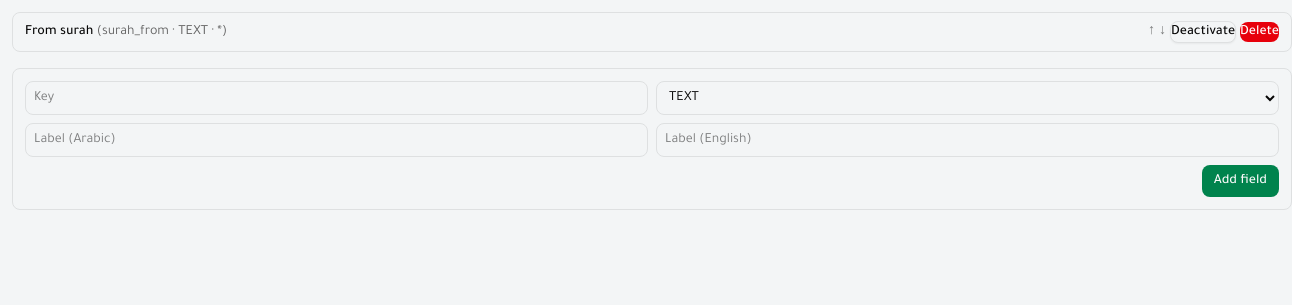
Test: ReportFieldsEditor (Sprint 3 §4.2) › blocks a SELECT field with no options
The image size is (1292, 305).
Expected: the text "From surah" is shown, top-left (25, 25), bottom-right (93, 39)
Type "rating" into the field labelled "Key" at point(336, 98), box top-left (25, 81), bottom-right (648, 115)
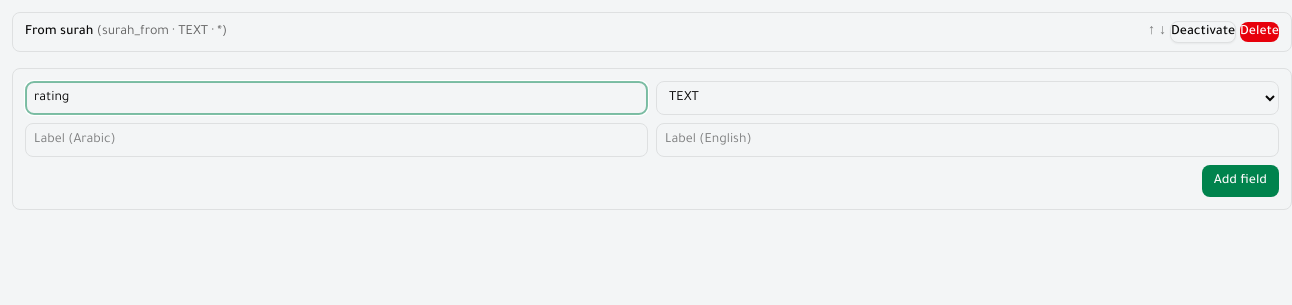
Type "تقييم" into the field labelled "Label (Arabic)" at point(336, 140), box top-left (25, 123), bottom-right (648, 157)
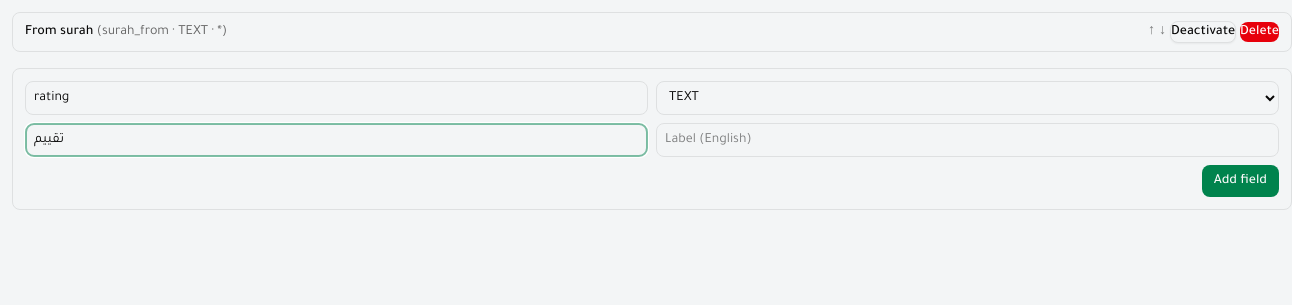
Type "Rating" into the field labelled "Label (English)" at point(968, 140), box top-left (656, 123), bottom-right (1279, 157)
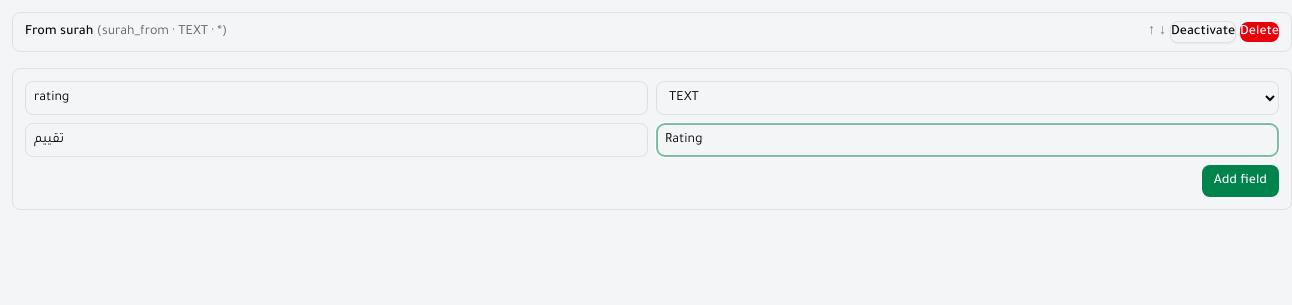
Select "SELECT" in the dropdown named "Type" at point(968, 98), box top-left (656, 81), bottom-right (1279, 115)
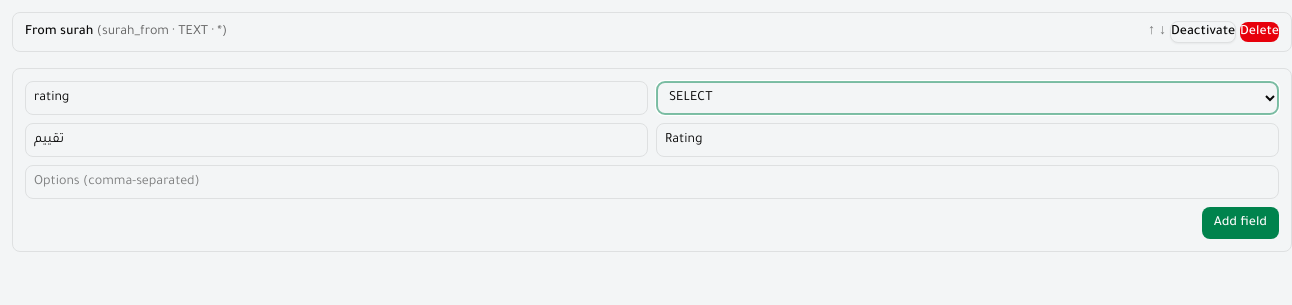
Click the button "Add field" at point(1240, 223), box top-left (1202, 207), bottom-right (1279, 239)
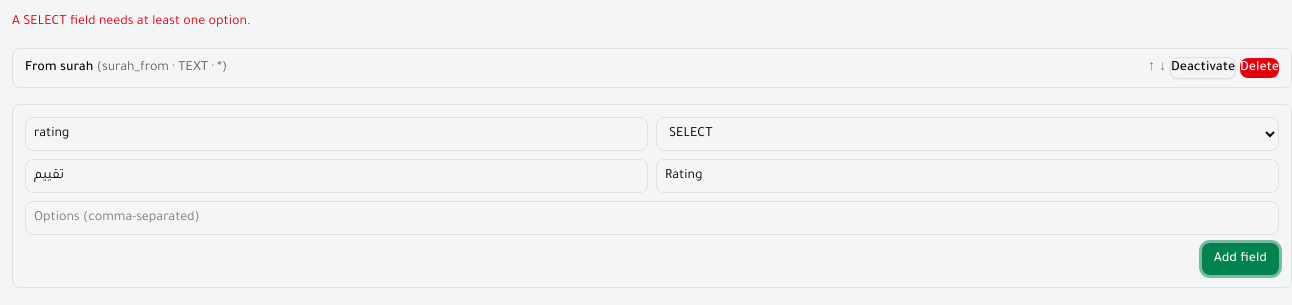
Now the message reads "A SELECT field needs at least one option.", box top-left (12, 15), bottom-right (251, 29)
